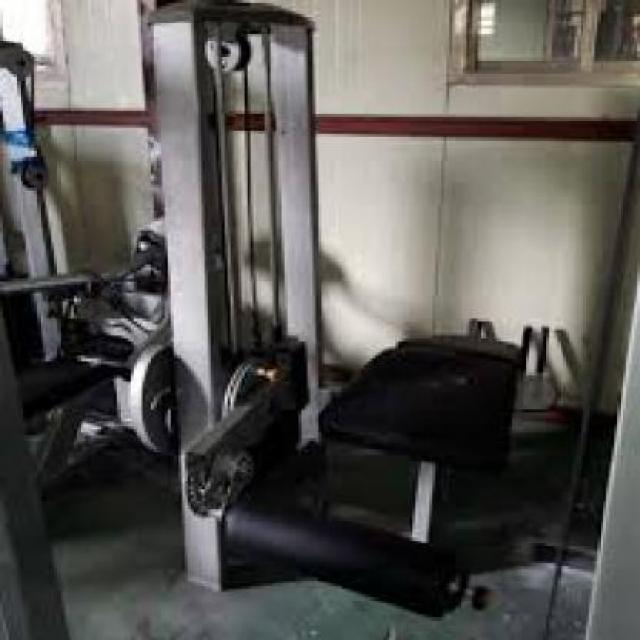reg curl machine: (109, 0, 557, 617)
